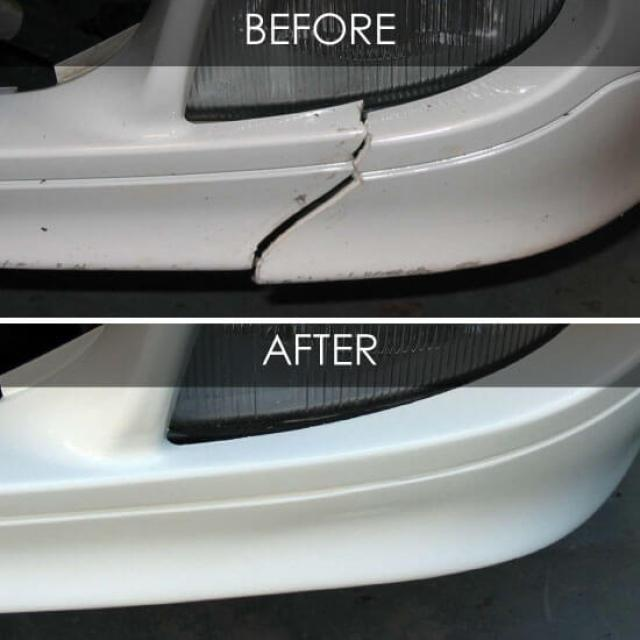scratch: (272, 260, 488, 283)
tear: (249, 100, 373, 272)
